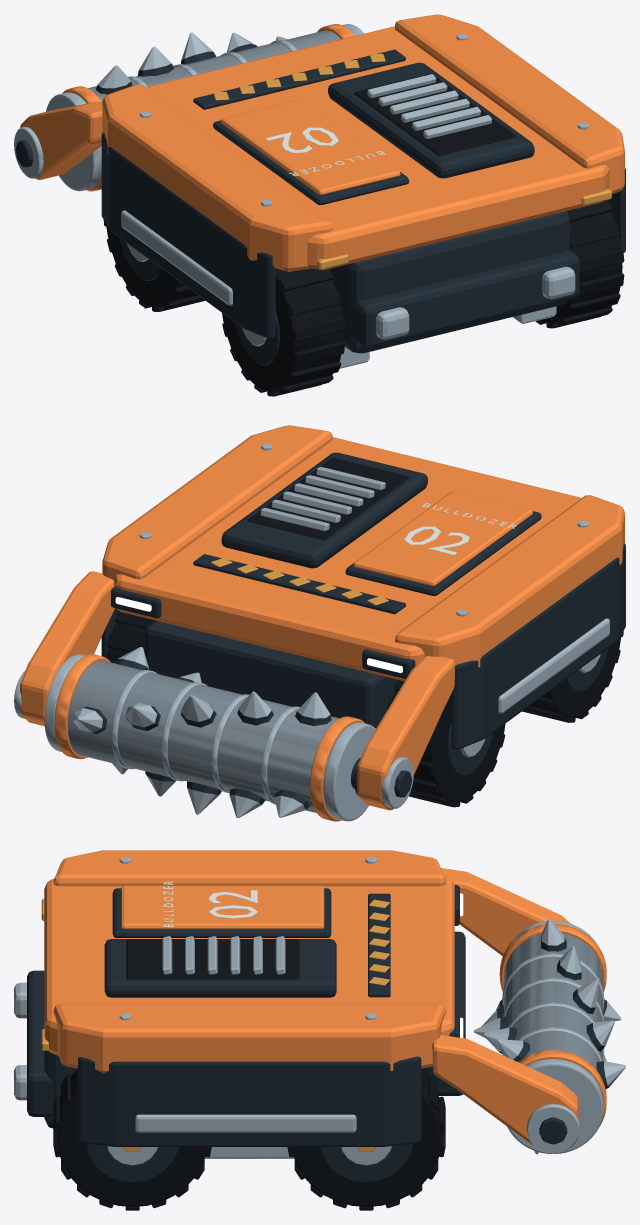
Rendered from bulldozer_v04.glb.
The picture shows the model from 3 angles, top to bottom: view 1: azimuth 30°, elevation 25°; view 2: azimuth 150°, elevation 25°; view 3: azimuth 270°, elevation 25°; orthographic projection.
Parts seen in each view (by area): view 1: ChassisMesh, Wheel_RL_Mesh, WeaponMesh, Wheel_RR_Mesh, Wheel_FL_Mesh; view 2: ChassisMesh, WeaponMesh, Wheel_FL_Mesh, Wheel_RL_Mesh, Wheel_FR_Mesh; view 3: ChassisMesh, WeaponMesh, Wheel_FR_Mesh, Wheel_RR_Mesh.
Part boxes in pixels (<box>): ChassisMesh: <box>14,14,625,368</box>; Wheel_RL_Mesh: <box>222,268,344,396</box>; WeaponMesh: <box>46,24,364,191</box>; Wheel_RR_Mesh: <box>535,199,624,328</box>; Wheel_FL_Mesh: <box>103,220,205,311</box>; ChassisMesh: <box>14,425,625,810</box>; WeaponMesh: <box>44,647,375,821</box>; Wheel_FL_Mesh: <box>387,680,505,807</box>; Wheel_RL_Mesh: <box>522,631,623,722</box>; Wheel_FR_Mesh: <box>106,611,155,662</box>; ChassisMesh: <box>14,850,579,1158</box>; WeaponMesh: <box>474,919,625,1154</box>; Wheel_FR_Mesh: <box>287,1069,445,1210</box>; Wheel_RR_Mesh: <box>53,1069,211,1210</box>.
Size of the model in its own units: 1.66 by 0.8367 by 2.27.
